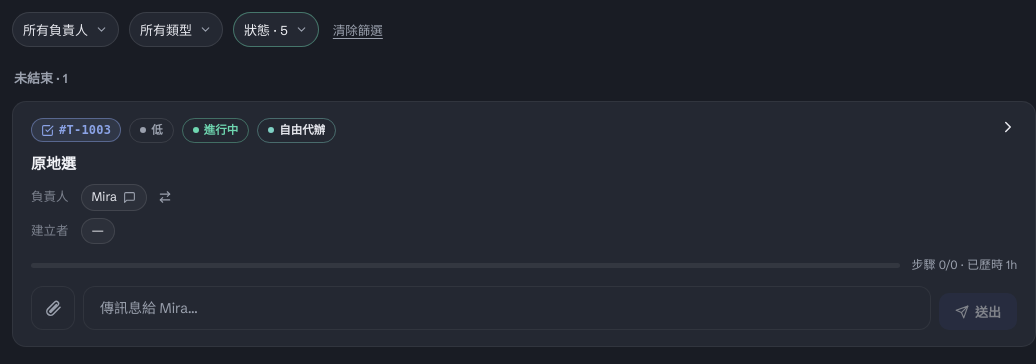
Test case: TaskCard in-place priority editing (v2) › re-picking the current priority just closes the row
Click the button with test id "task-priority". click: (152, 130)
box: [129,118,174,143]
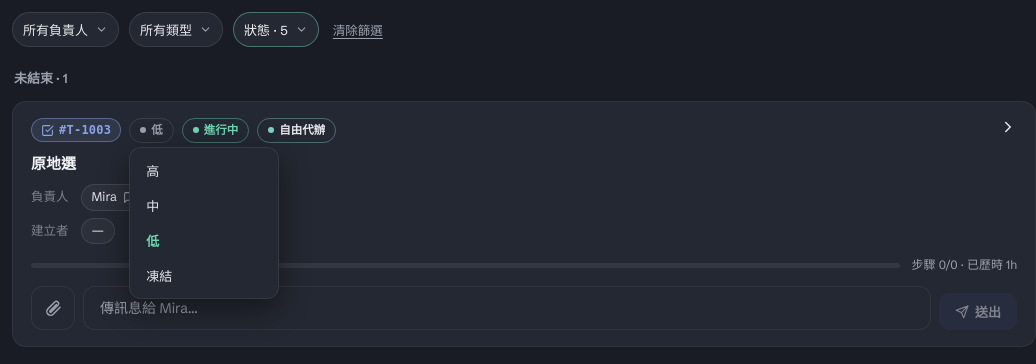
Click the menu item with test id "priority-low". click: (204, 240)
box: [136,224,272,257]
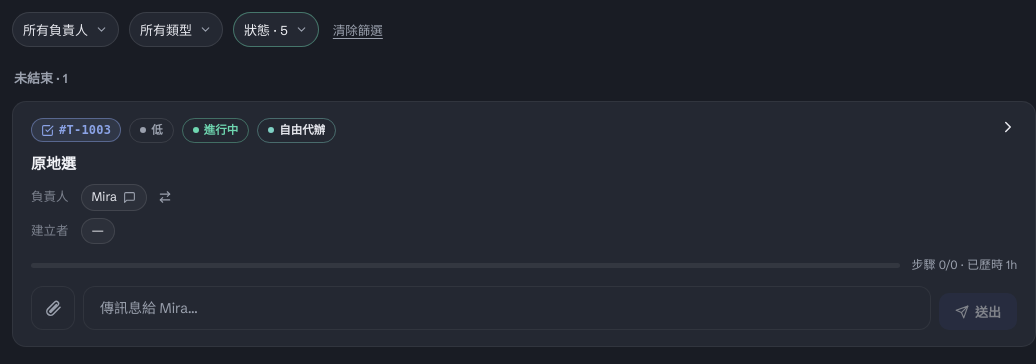
Check: the button with test id "task-priority" reads "低", box [129,118,174,143]
Check: the menu with test id "task-priority-options" is gone
